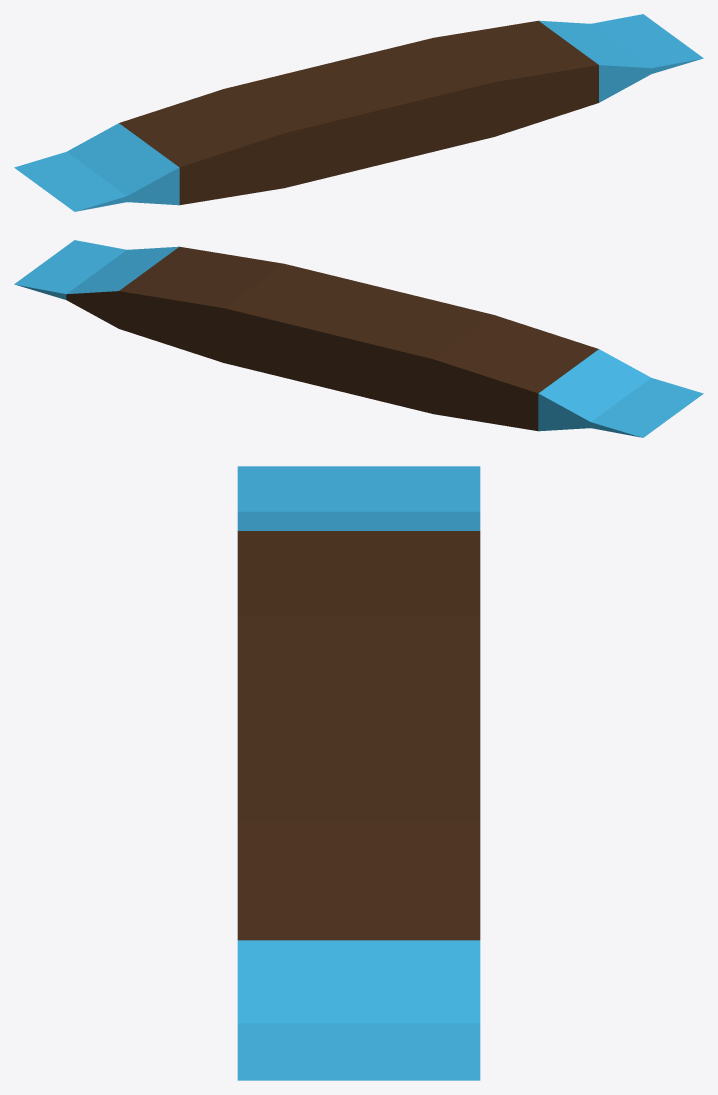
Rendered from sobre chocolate.fbx.
3 renders of one model, top to bottom at view 1: azimuth 30°, elevation 25°; view 2: azimuth 150°, elevation 25°; view 3: azimuth 270°, elevation 25°, orthographic. The views are drawn at different scales.
Visible parts, largest first — view 1: sobre chocolate; view 2: sobre chocolate; view 3: sobre chocolate.
Boxes of the visible parts, x1,y1,x2,y2 form: sobre chocolate: (14,14,703,211); sobre chocolate: (14,240,703,437); sobre chocolate: (237,466,480,1080).
Bounding box in the file's own units: 12 × 1 × 2.
